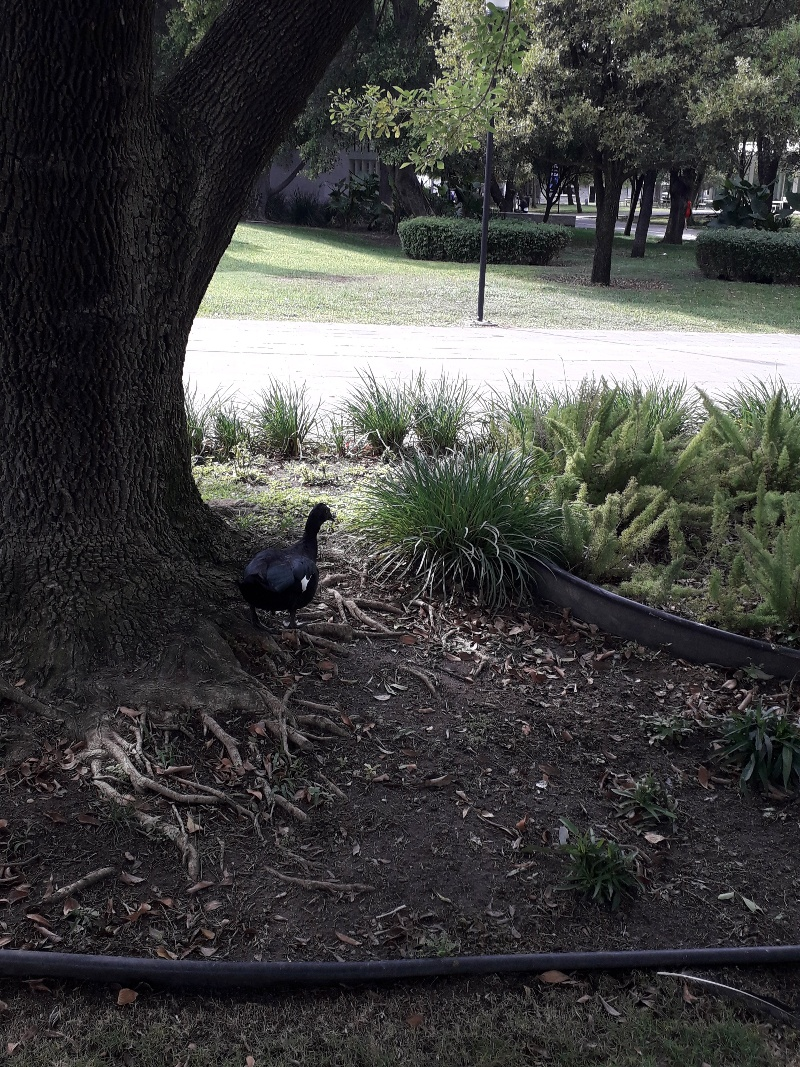pato: (241, 501, 336, 620)
